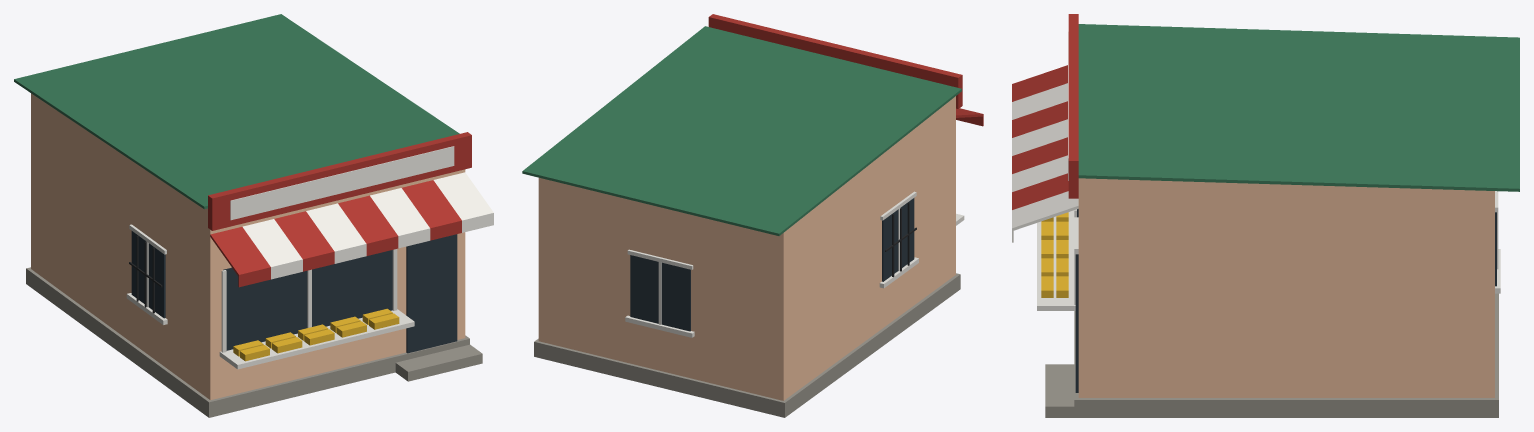
The model's file is BAY_F_Shop_G.glb.
The picture shows the model from 3 angles, left to right: view 1: azimuth 30°, elevation 25°; view 2: azimuth 150°, elevation 25°; view 3: azimuth 270°, elevation 25°; orthographic projection. The views are drawn at different scales.
Visible parts, largest first — view 1: BAY_F_Shop_G; view 2: BAY_F_Shop_G; view 3: BAY_F_Shop_G.
Part boxes in pixels (box(x1,y1,x2,y2)): BAY_F_Shop_G: box(14, 14, 493, 417); BAY_F_Shop_G: box(522, 14, 983, 417); BAY_F_Shop_G: box(1012, 14, 1519, 417).
Size of the model in its own units: 4.3 by 3.4 by 6.1.
Materials: 1 (1 with a texture image).
